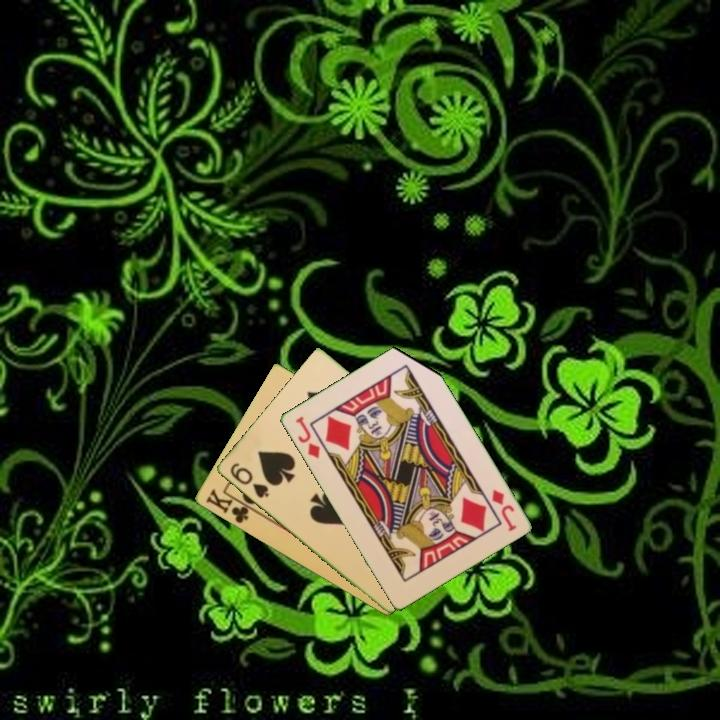6s: (226, 459, 272, 501)
Jd: (291, 413, 323, 462), (488, 486, 519, 534)
Kc: (202, 485, 258, 527)
